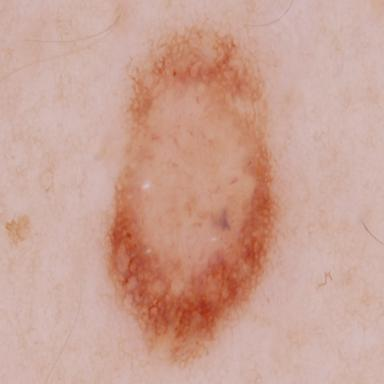nevus: (109, 29, 275, 362)
